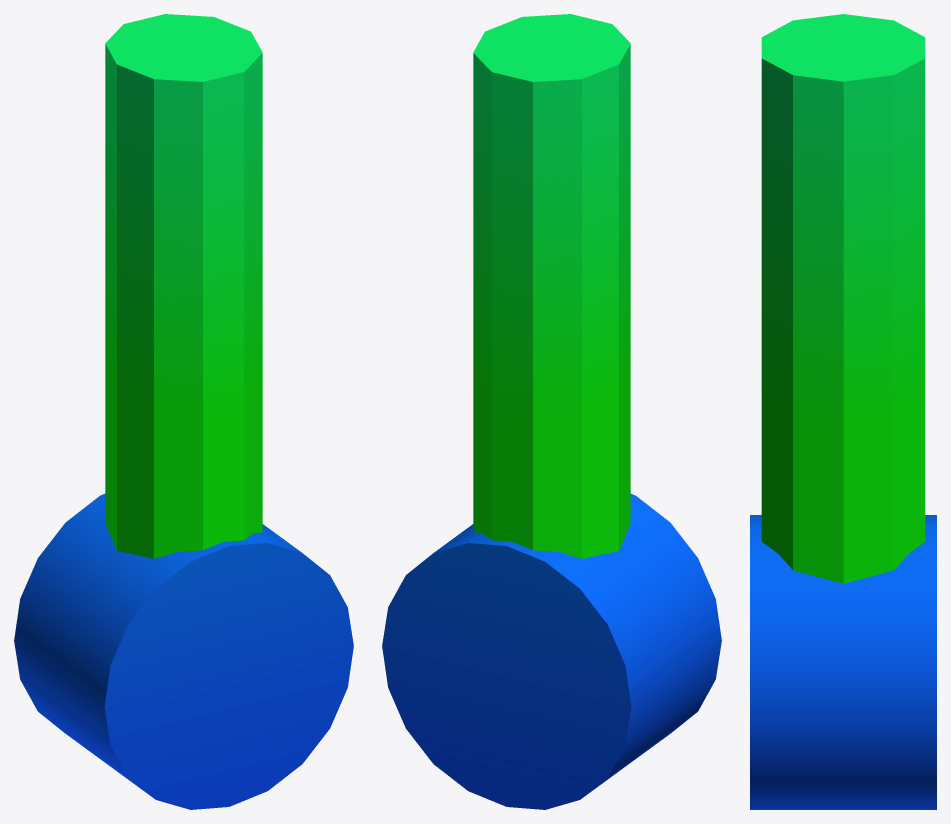
File: Grip_Five.fbx
The picture shows the model from 3 angles, left to right: view 1: azimuth 30°, elevation 25°; view 2: azimuth 150°, elevation 25°; view 3: azimuth 270°, elevation 25°; orthographic projection. The views are drawn at different scales.
Parts seen in each view (by area): view 1: Grip_One2; view 2: Grip_One2; view 3: Grip_One2.
Part boxes in pixels (x1,y1,x2,y2): Grip_One2: (14,14,353,809); Grip_One2: (382,14,721,809); Grip_One2: (750,14,936,809).
Bounding box in the file's own units: 1.39 × 3.87 × 0.8753.
